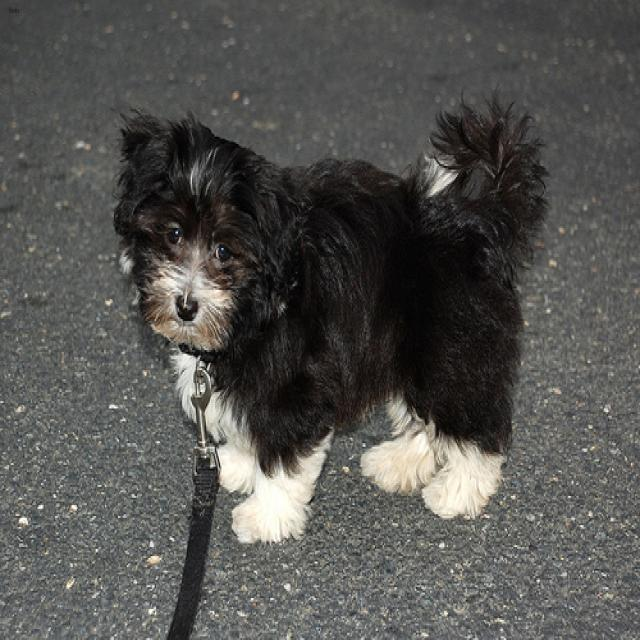dog-havanese: (106, 86, 559, 562)
